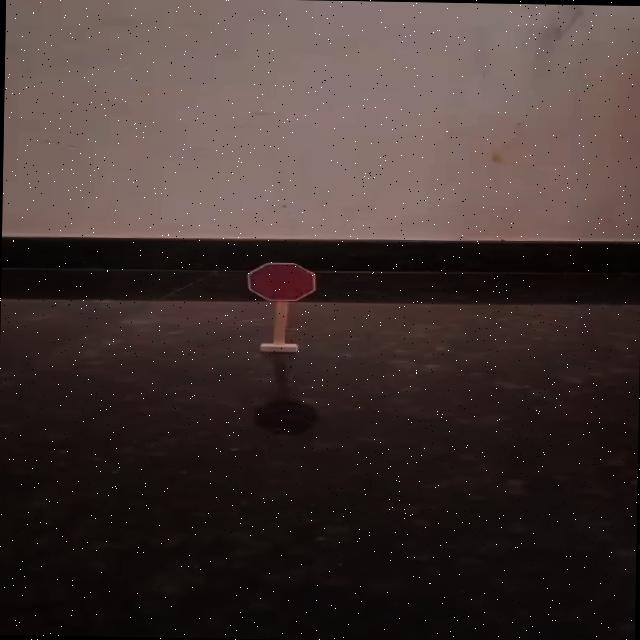Stop: (235, 253, 328, 311)
